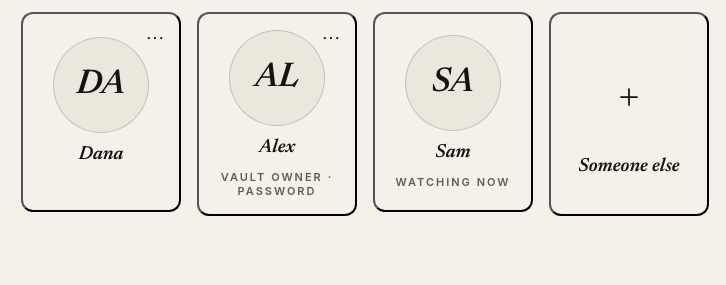
Test: WhoIsWatching › keeps the screen when the server refused the switch (429) and does not reload
This screenshot has width=726, height=285.
What coordinates should you click on to do the following:
click the button with aria-label "Continue as Dana"
I would click on:
 (101, 112)
Its box is [21,12,181,212].
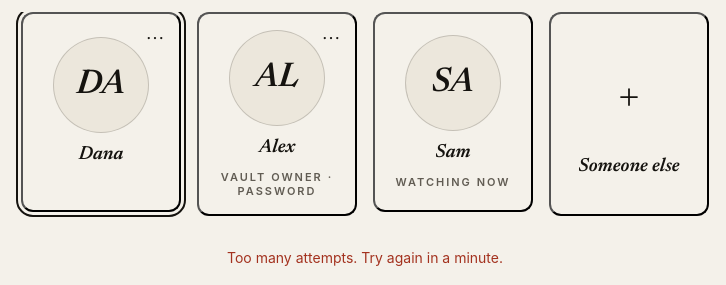
Result: the text "Too many attempts. Try again in a minute." is shown at [227,248,503,269]
